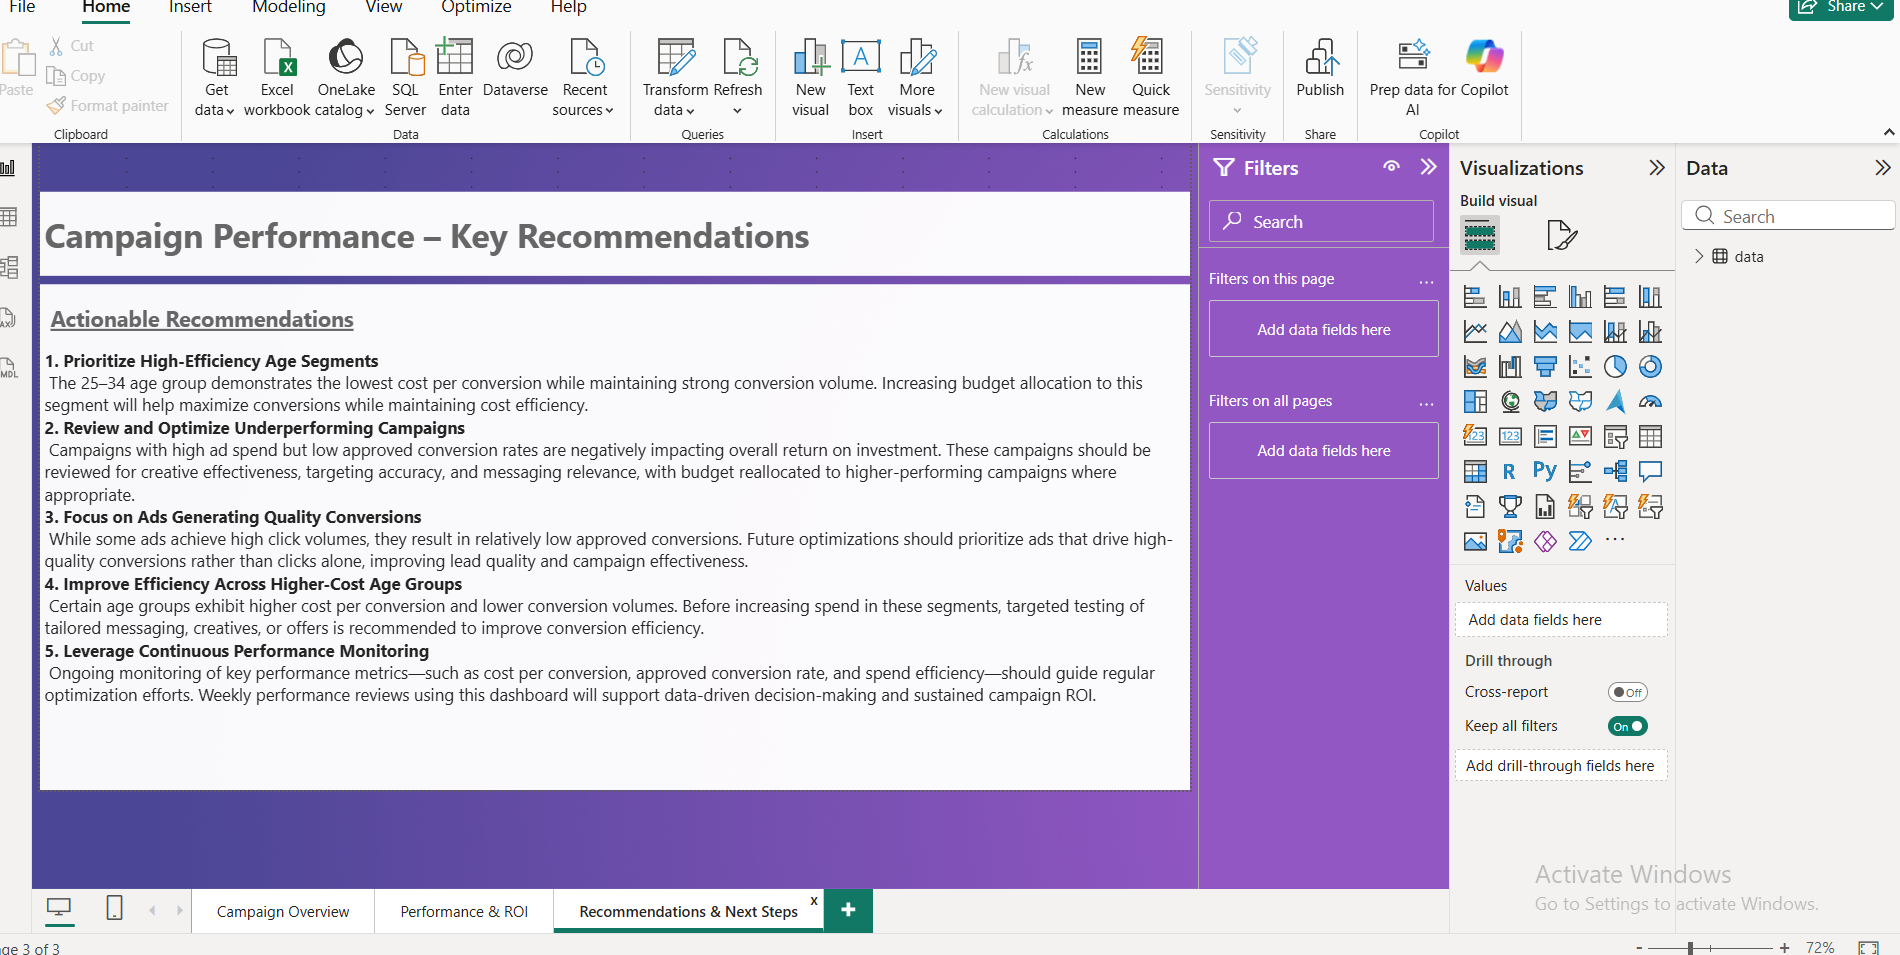

The page's visual inventory and layout, read from the dashboard file:
{"tool":"powerbi","page":{"name":"Recommendations & Next Steps","canvas":[1280,720],"ordinal":2},"visuals":[{"type":"textbox","box":[0,54.3,1280,93.2],"z":0},{"type":"textbox","box":[0,157.2,1280,563.5],"z":1000}]}

Visuals, with their boxes on the page's 1280x720 design canvas (x1, y1, x2, y2). These are canvas units, not pixel positions in the 1900x955 screenshot, which may show the page scaled, cropped or inside an application window:
textbox: 0 54 1280 148
textbox: 0 157 1280 721
